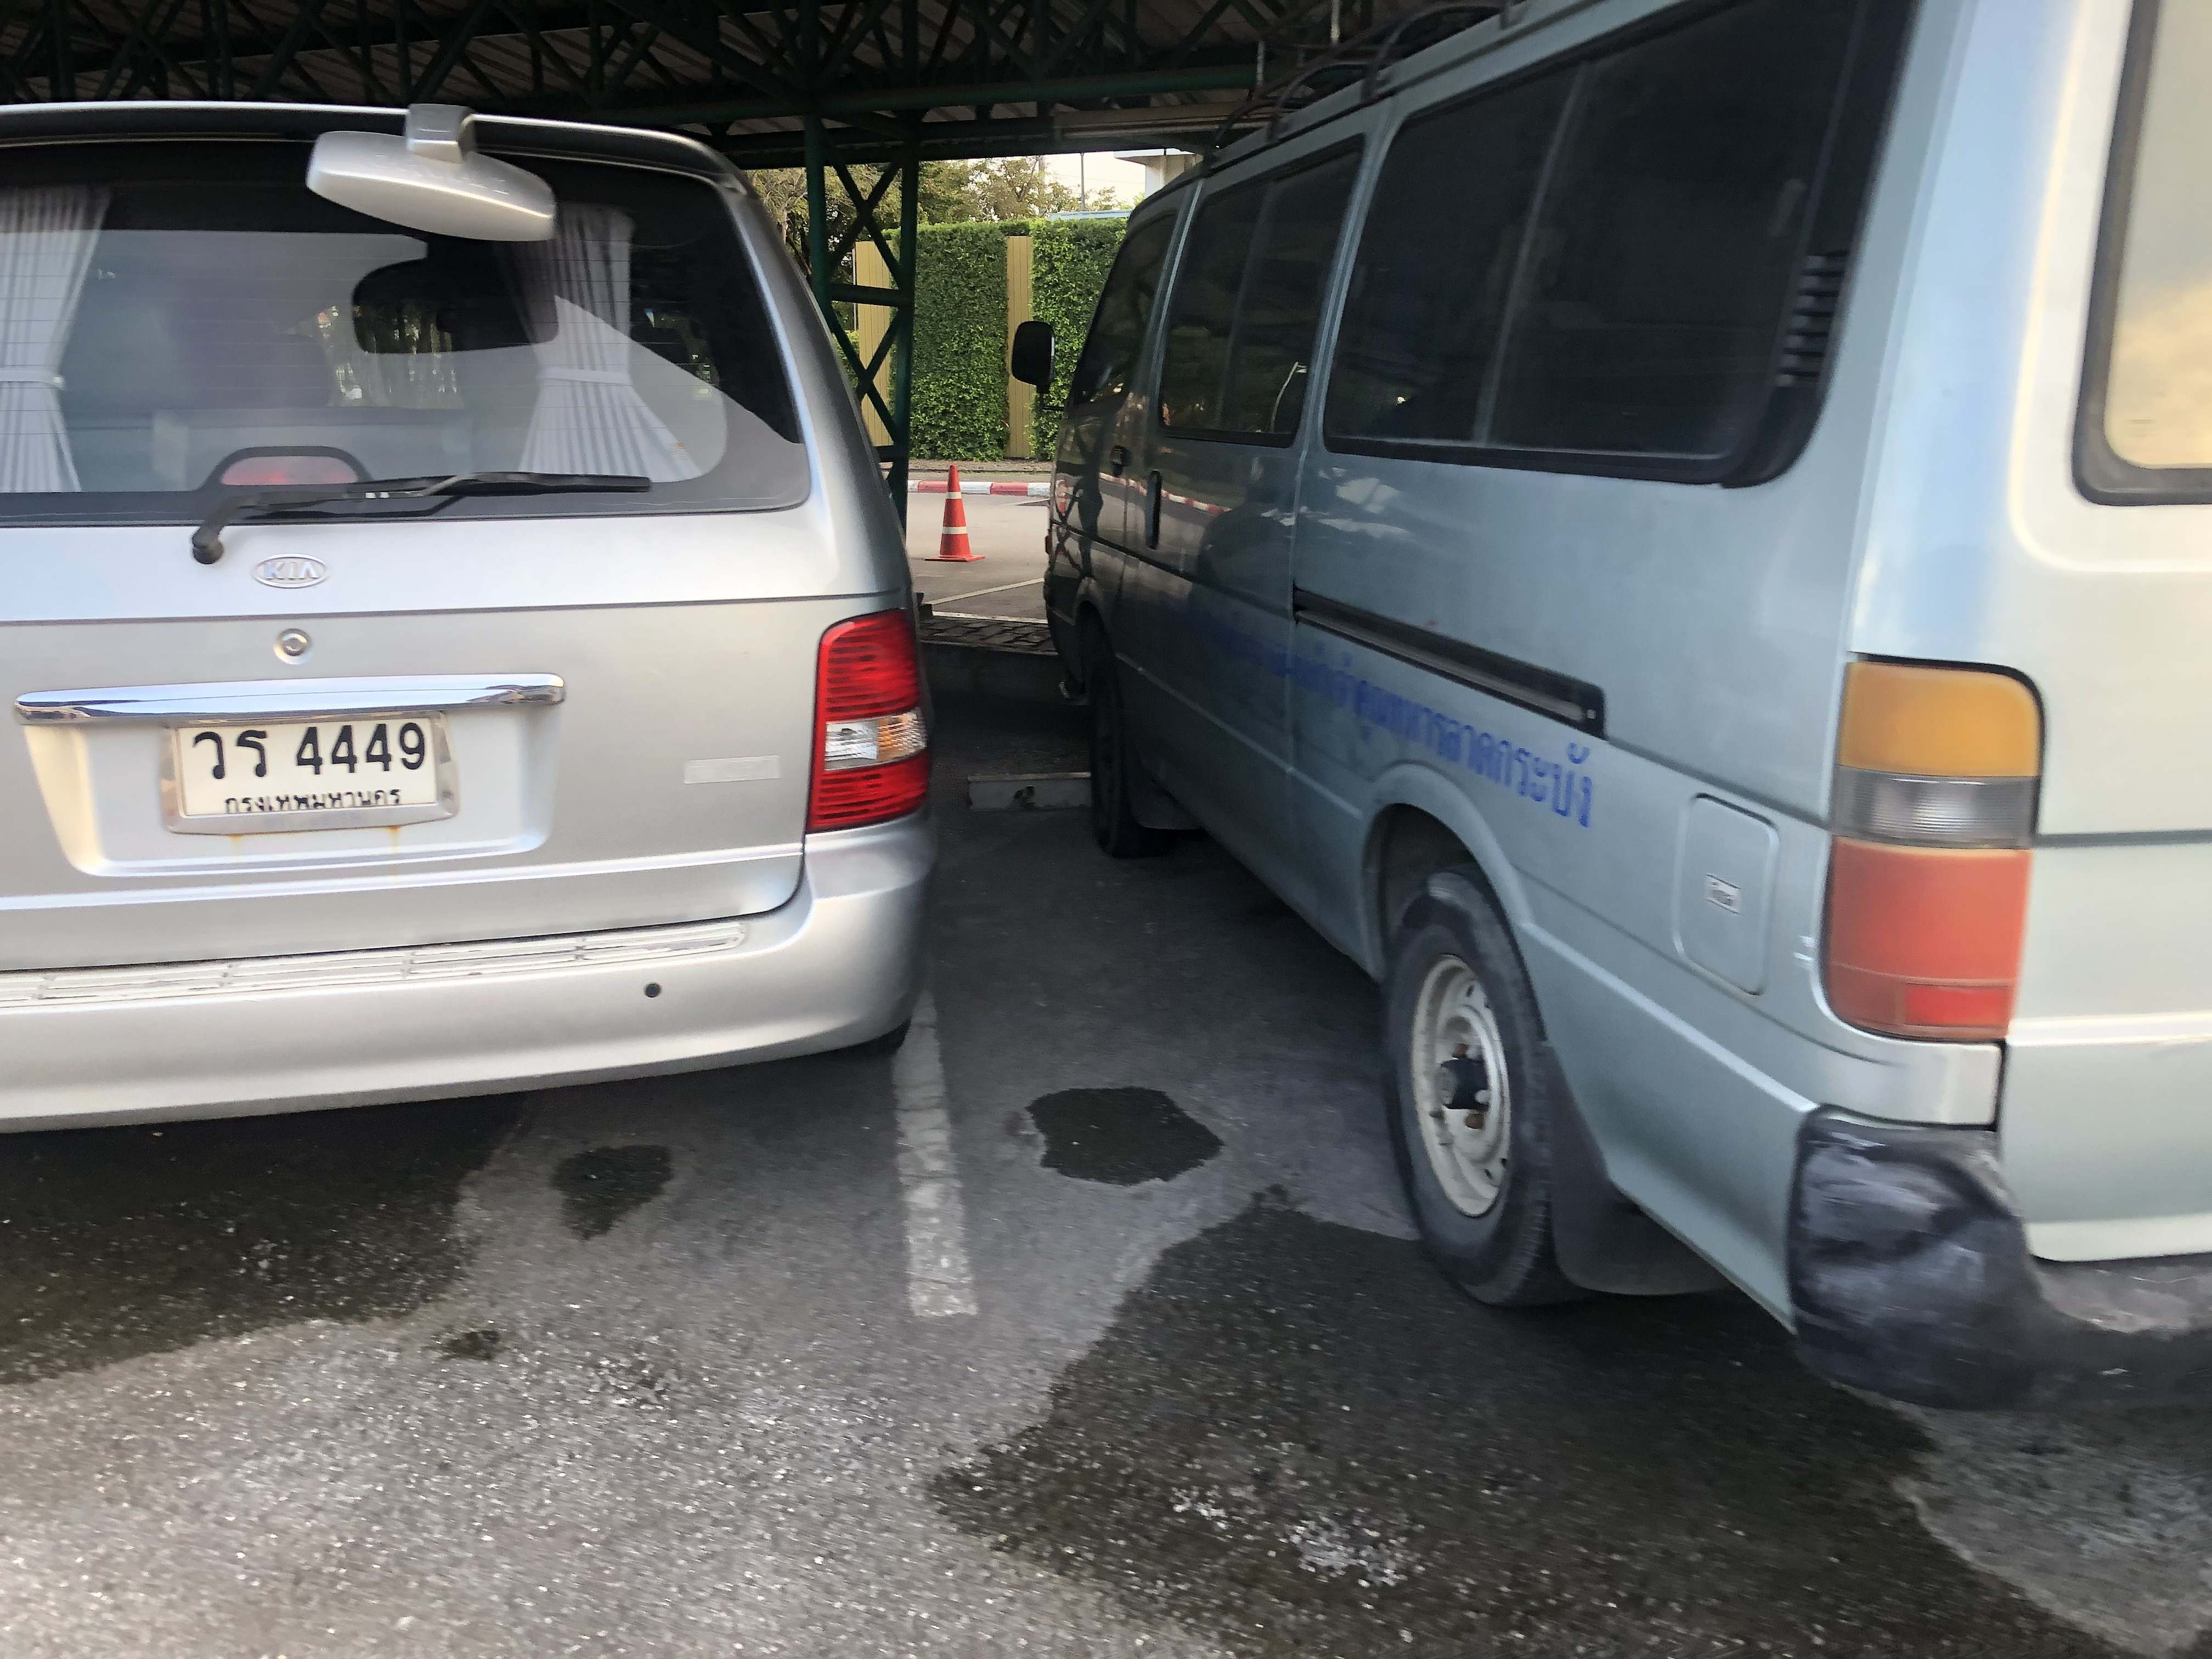in: (172, 716, 441, 816)
out: (158, 699, 460, 840)
